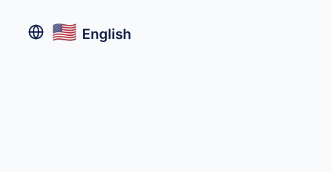
Test: LanguageSwitcher › opens dropdown and shows language options when clicked
Step 1. Click the button → (80, 32), box [12,12,147,52]
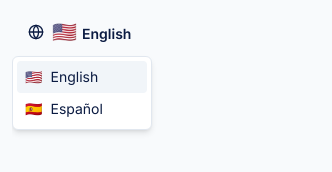
expect the number of menu items is 2: met, box [17,61,147,93]; [25,100,103,117]
